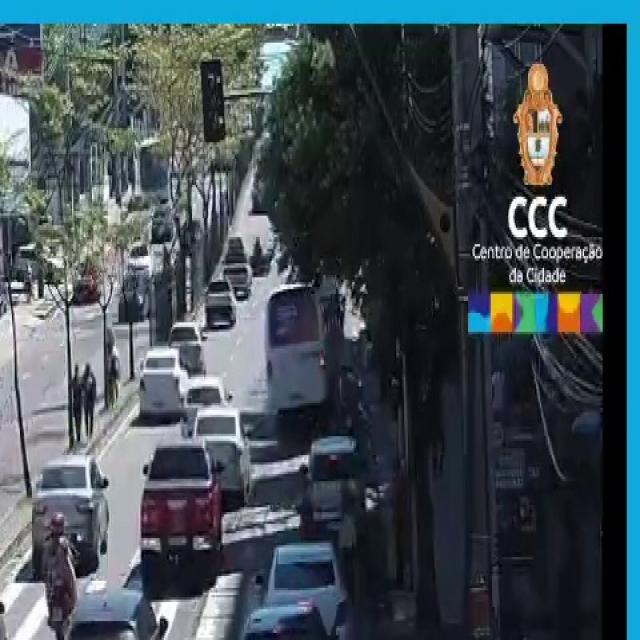biker: (41, 512, 76, 640)
car: (134, 438, 226, 574), (23, 451, 114, 566), (56, 585, 172, 640), (135, 348, 187, 417), (0, 562, 8, 640), (0, 358, 1, 455)
people: (83, 356, 102, 440), (70, 364, 83, 440)
truck: (261, 286, 328, 429)
